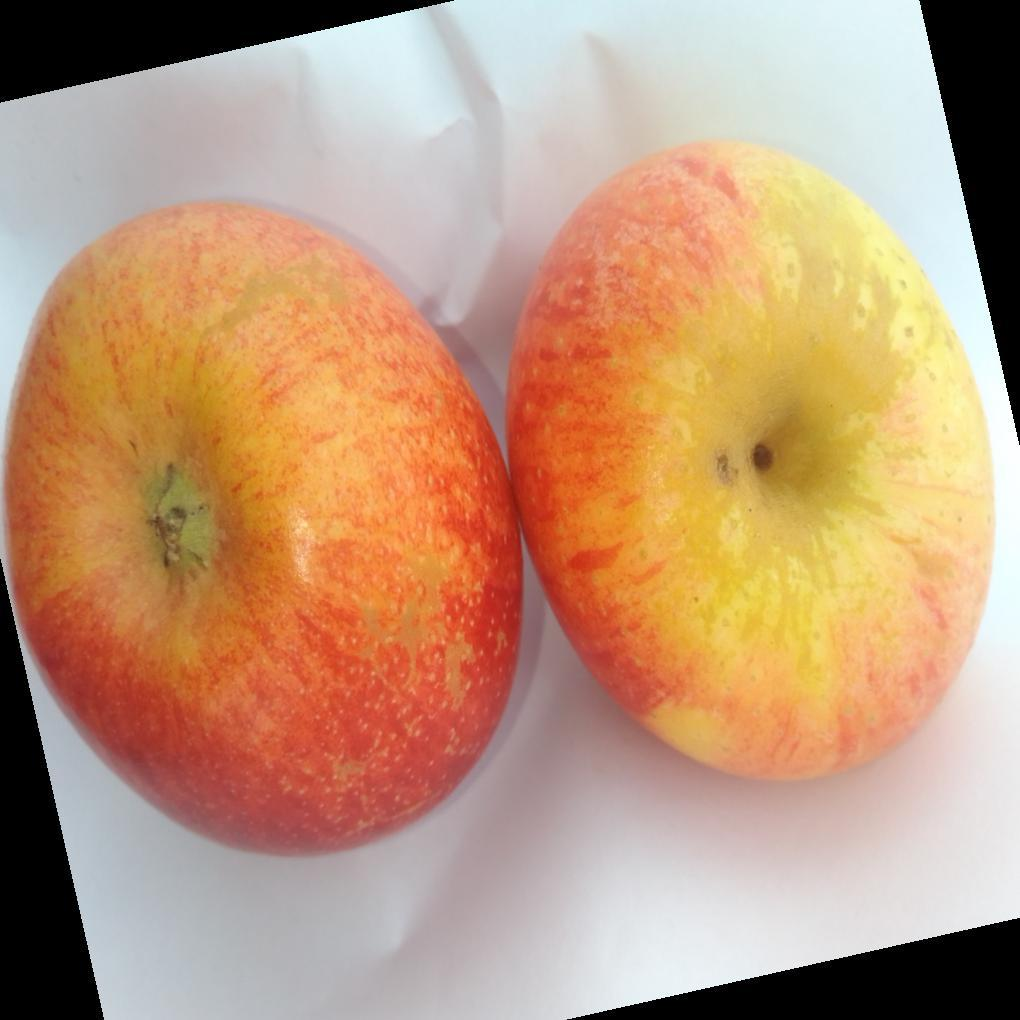FreshGuava: (0, 139, 999, 862)
